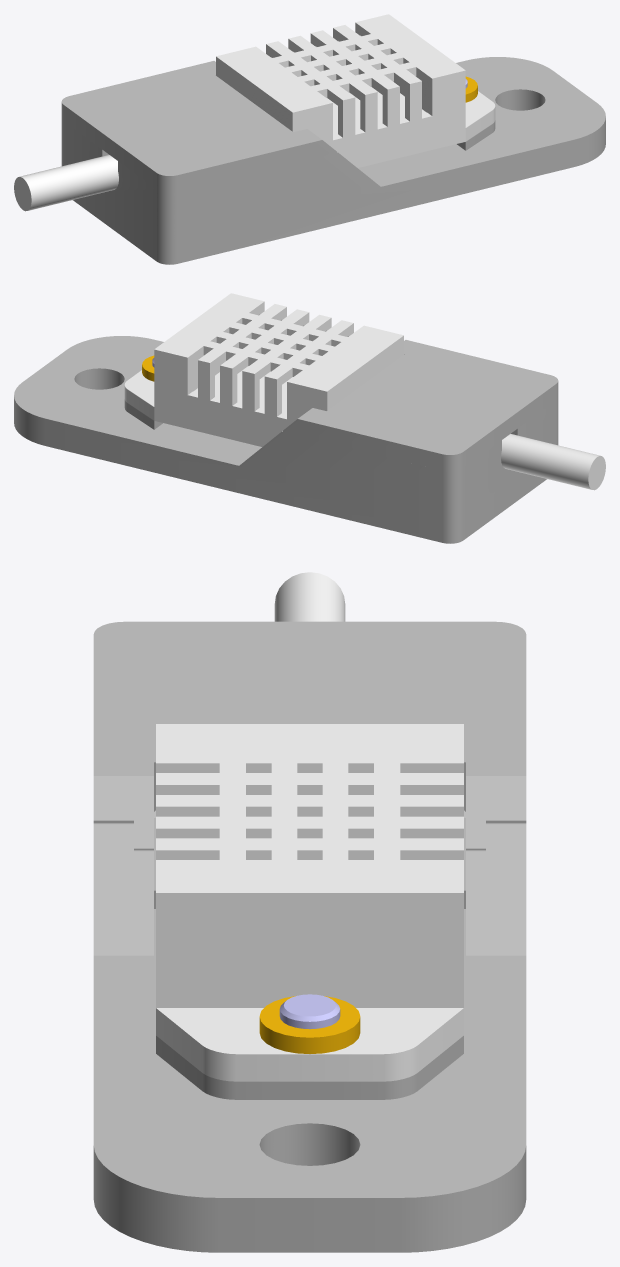
The model's file is H-Sensor-Wallmount-Case.dae.
The picture shows the model from 3 angles, top to bottom: view 1: azimuth 30°, elevation 25°; view 2: azimuth 150°, elevation 25°; view 3: azimuth 270°, elevation 25°; orthographic projection. The views are drawn at different scales.
Parts seen in each view (by area): view 1: group_12 (×2), group_3, group_1, group_11; view 2: group_12 (×2), group_3, group_1, group_11; view 3: group_12 (×3), group_3, group_1, group_0, group_11, M3.
Part boxes in pixels (x1,y1,x2,y2): group_12 (×2): (61,57,605,264); group_3: (216,14,495,167); group_1: (61,61,336,192); group_11: (14,155,118,211); group_12 (×2): (14,336,558,543); group_3: (124,293,403,446); group_1: (283,340,558,471); group_11: (501,434,605,490); group_12 (×3): (93,810,526,1252); group_3: (156,724,463,1081); group_1: (93,621,526,850); group_0: (259,996,360,1053); group_11: (274,572,345,621); M3: (279,994,340,1029).
Size of the model in its own units: 2.49 by 0.8445 by 0.4646.
